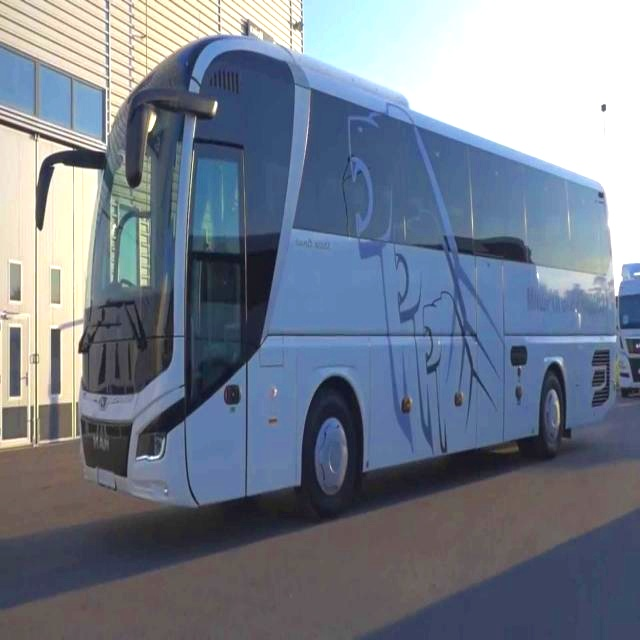bus: (17, 21, 632, 522)
